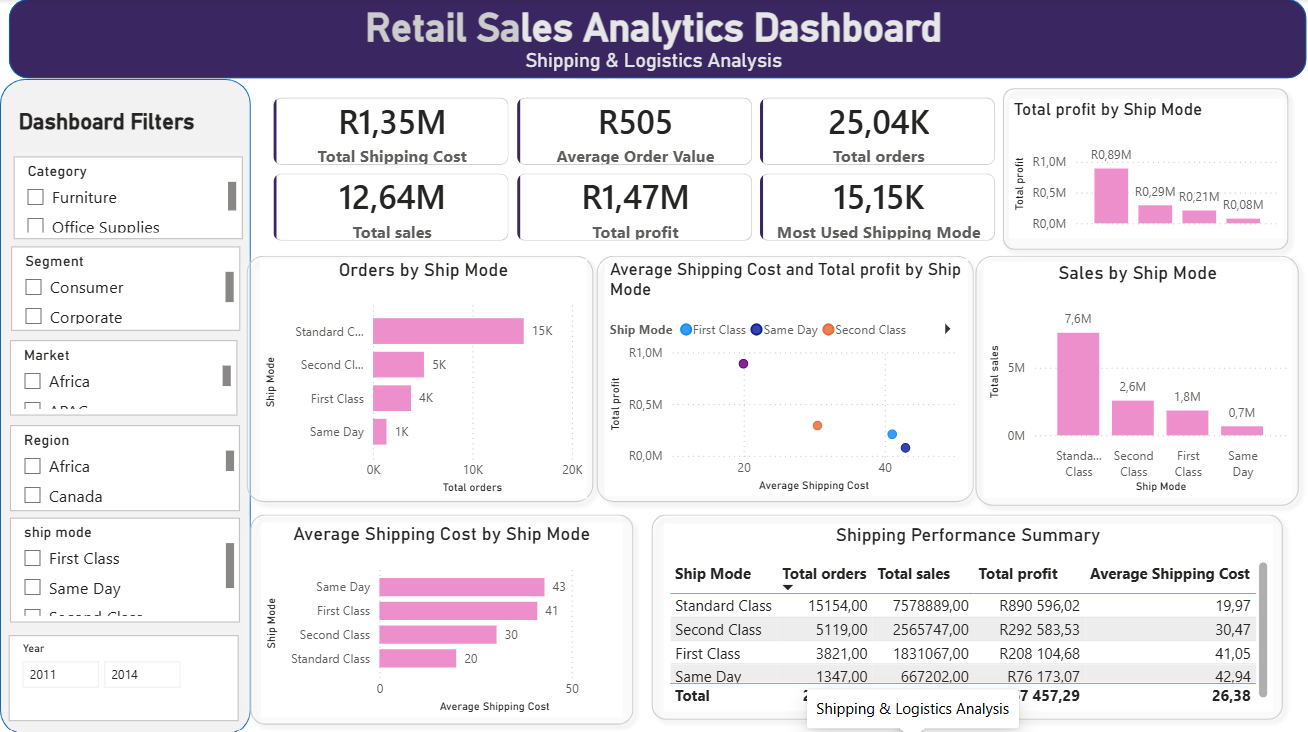

The dashboard page shown, as its layout file describes it:
{"tool":"powerbi","page":{"name":"Shipping & Logistics Analysis","canvas":[1280,720],"ordinal":5},"visuals":[{"type":"shape","box":[8.7,0,1269.6,77.9],"z":0},{"type":"textbox","box":[10.1,0,1259.5,93.8],"z":1000},{"type":"shape","box":[0,77.9,245.3,642],"z":2000},{"type":"slicer","fields":{"Values":["superstore.category"]},"box":[13,154.4,223.6,80.8],"z":3000},{"type":"slicer","fields":{"Values":["superstore.segment"]},"box":[11.5,242.4,223.6,82.2],"z":4000},{"type":"slicer","fields":{"Values":["superstore.market"]},"box":[10.1,333.3,222.2,73.6],"z":5000},{"type":"slicer","fields":{"Values":["superstore.region"]},"box":[10.1,417,225.1,83.7],"z":6000},{"type":"slicer","fields":{"Values":["superstore.ship_mode"]},"box":[10.1,507.9,225.1,102.4],"z":7000},{"type":"slicer","fields":{"Values":["superstore.year"]},"box":[8.7,621.8,225.1,83.7],"z":8000},{"type":"textbox","box":[13,102.4,223.6,50.5],"z":9000},{"type":"cardVisual","fields":{"Data":["superstore.Total Shipping Cost","superstore.Average Order Value","superstore.Total orders","superstore.Total sales","superstore.Total profit","superstore.Most Used Shipping Mode"]},"box":[251,79.4,740.1,174.6],"z":10000},{"type":"shape","box":[574.2,241.6,386.9,259.1],"z":11000},{"type":"shape","box":[945.3,241.6,334.4,262.6],"z":12000},{"type":"shape","box":[232.8,241.6,357.1,259.1],"z":13000},{"type":"shape","box":[628.5,495.4,635.5,218.8],"z":14000},{"type":"shape","box":[236.6,494.9,392.4,223.6],"z":15000},{"type":"clusteredBarChart","title":"Orders by Ship Mode","fields":{"Category":["superstore.Ship Mode"],"Y":["superstore.Total orders"]},"box":[253.8,253.8,320.4,234.6],"z":16000},{"type":"clusteredColumnChart","title":"Sales by Ship Mode","fields":{"Category":["superstore.Ship Mode"],"Y":["superstore.Total sales"]},"box":[962.3,256.8,301.5,230.8],"z":17000},{"type":"clusteredBarChart","fields":{"Category":["superstore.Ship Mode"],"Y":["superstore.Average Shipping Cost"]},"box":[255.4,512.2,353.5,190.4],"z":18000},{"type":"scatterChart","fields":{"Series":["superstore.Ship Mode"],"X":["superstore.Average Shipping Cost"],"Y":["superstore.Total profit"]},"box":[591.5,253.9,354.9,232.3],"z":19000},{"type":"tableEx","title":"Shipping Performance Summary","fields":{"Values":["superstore.Ship Mode","superstore.Total orders","superstore.Total sales","superstore.Total profit","superstore.Average Shipping Cost"]},"box":[649.2,513.6,595.9,183.2],"z":20000},{"type":"shape","box":[972.4,77.9,297.2,176],"z":21000},{"type":"clusteredColumnChart","fields":{"Category":["superstore.Ship Mode"],"Y":["superstore.Total profit"]},"box":[986.8,98.1,269.8,135.6],"z":22000}]}

Visuals, with their boxes in screenshot pixels (x1, y1, x2, y2), scaled from the page's 1280x720 canvas onto the 1308x732 screenshot:
shape: pyautogui.locateOnScreen(9, 0, 1306, 79)
textbox: pyautogui.locateOnScreen(10, 0, 1297, 95)
shape: pyautogui.locateOnScreen(0, 79, 251, 731)
slicer - superstore.category: pyautogui.locateOnScreen(13, 157, 242, 239)
slicer - superstore.segment: pyautogui.locateOnScreen(12, 246, 240, 330)
slicer - superstore.market: pyautogui.locateOnScreen(10, 339, 237, 414)
slicer - superstore.region: pyautogui.locateOnScreen(10, 424, 240, 509)
slicer - superstore.ship_mode: pyautogui.locateOnScreen(10, 516, 240, 620)
slicer - superstore.year: pyautogui.locateOnScreen(9, 632, 239, 717)
textbox: pyautogui.locateOnScreen(13, 104, 242, 155)
cardVisual - superstore.Total Shipping Cost x superstore.Average Order Value: pyautogui.locateOnScreen(256, 81, 1013, 258)
shape: pyautogui.locateOnScreen(587, 246, 982, 509)
shape: pyautogui.locateOnScreen(966, 246, 1307, 513)
shape: pyautogui.locateOnScreen(238, 246, 603, 509)
shape: pyautogui.locateOnScreen(642, 504, 1292, 726)
shape: pyautogui.locateOnScreen(242, 503, 643, 730)
"Orders by Ship Mode" clusteredBarChart: pyautogui.locateOnScreen(259, 258, 587, 497)
"Sales by Ship Mode" clusteredColumnChart: pyautogui.locateOnScreen(983, 261, 1291, 496)
clusteredBarChart - superstore.Ship Mode x superstore.Average Shipping Cost: pyautogui.locateOnScreen(261, 521, 622, 714)
scatterChart - superstore.Ship Mode x superstore.Average Shipping Cost: pyautogui.locateOnScreen(604, 258, 967, 494)
"Shipping Performance Summary" tableEx: pyautogui.locateOnScreen(663, 522, 1272, 708)
shape: pyautogui.locateOnScreen(994, 79, 1297, 258)
clusteredColumnChart - superstore.Ship Mode x superstore.Total profit: pyautogui.locateOnScreen(1008, 100, 1284, 238)
